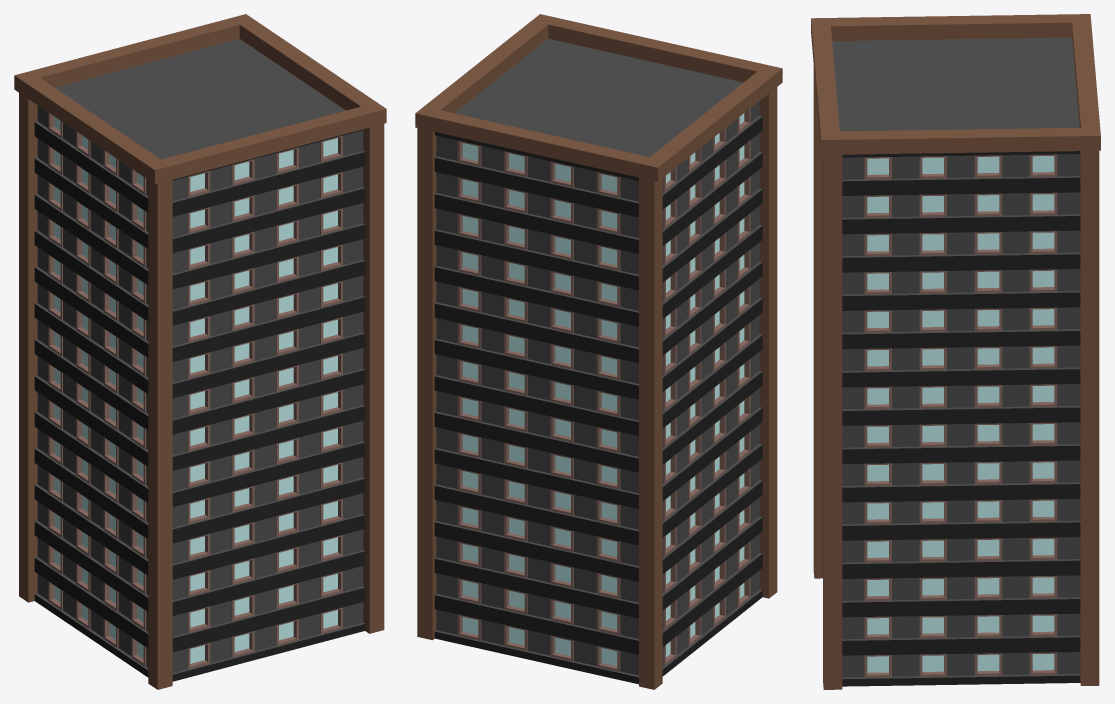
File: Gedung 1.fbx
3 views of the same model, side by side, from view 1: azimuth 30°, elevation 25°; view 2: azimuth 150°, elevation 25°; view 3: azimuth 270°, elevation 25° (orthographic). The views are drawn at different scales.
Visible parts, largest first — view 1: Atap gedungShape; view 2: Atap gedungShape; view 3: Atap gedungShape.
Part boxes in pixels (<box>): Atap gedungShape: <box>14,14,386,689</box>; Atap gedungShape: <box>415,14,782,689</box>; Atap gedungShape: <box>811,14,1100,689</box>.
Bounding box in the file's own units: 107 × 218 × 104.
